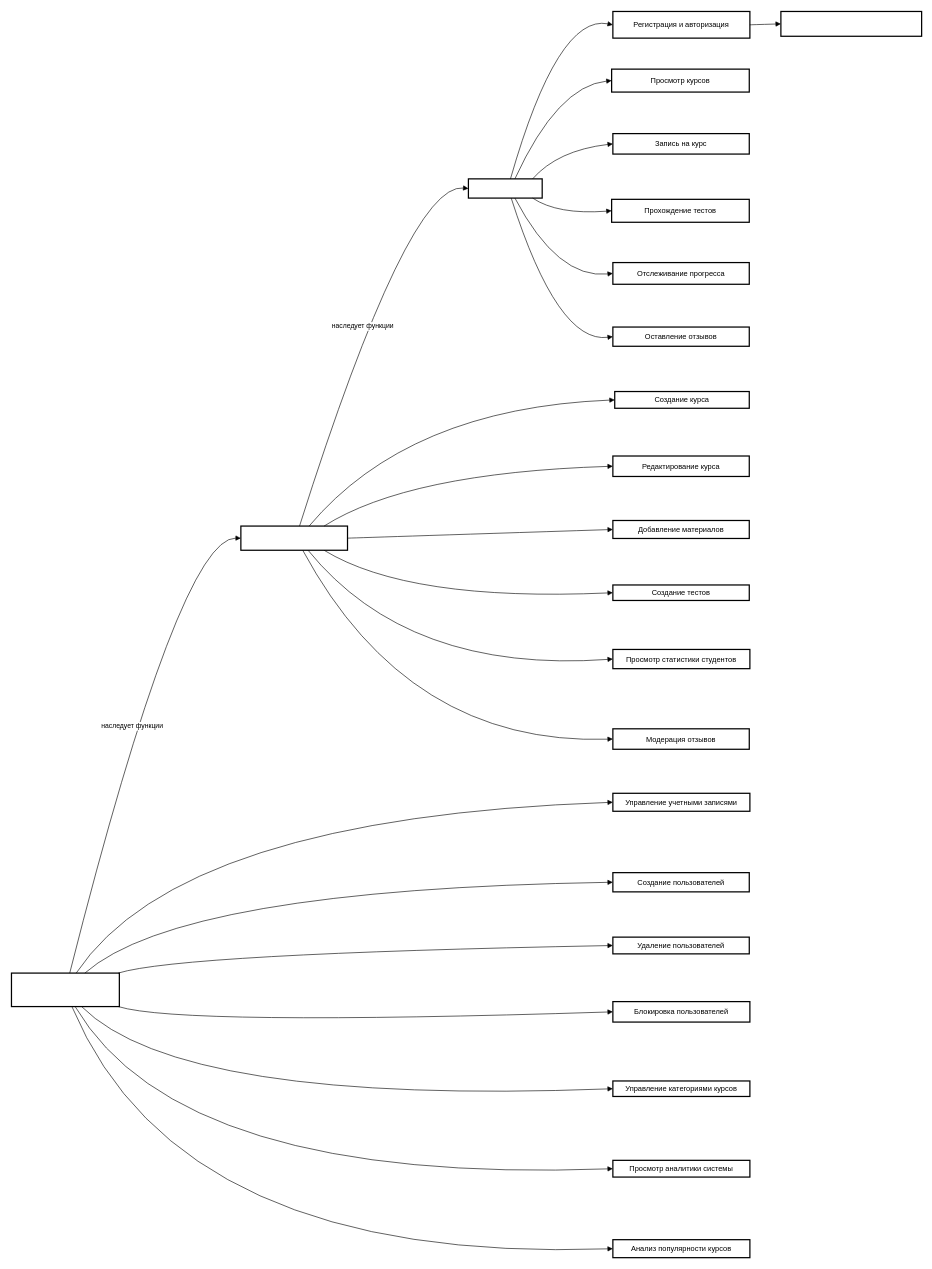
This 932x1269 diagram has some shape labels left out. The centre of each missing label's shape, as x and y in pixels:
"Администратор" goes at (65,989).
"Подтверждение почты" goes at (851,24).
"Преподаватель" goes at (294,538).
"Студент" goes at (504,188).
